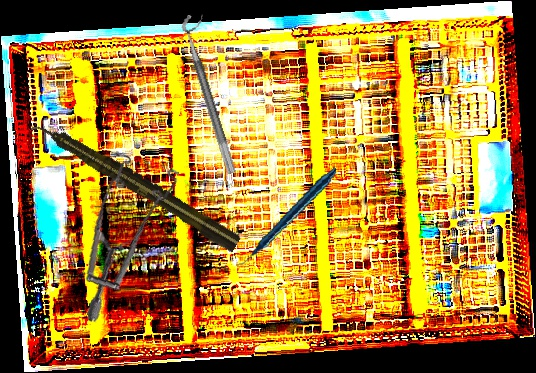Fixation Ring: (178, 11, 250, 175)
Handpiece: (28, 113, 243, 255), (223, 167, 349, 266)
Speculum: (68, 144, 196, 324)
